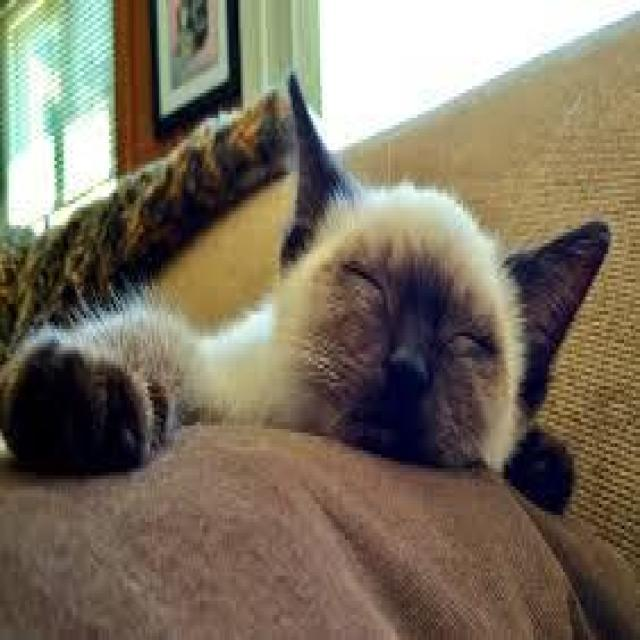Cat: (208, 31, 632, 548)
